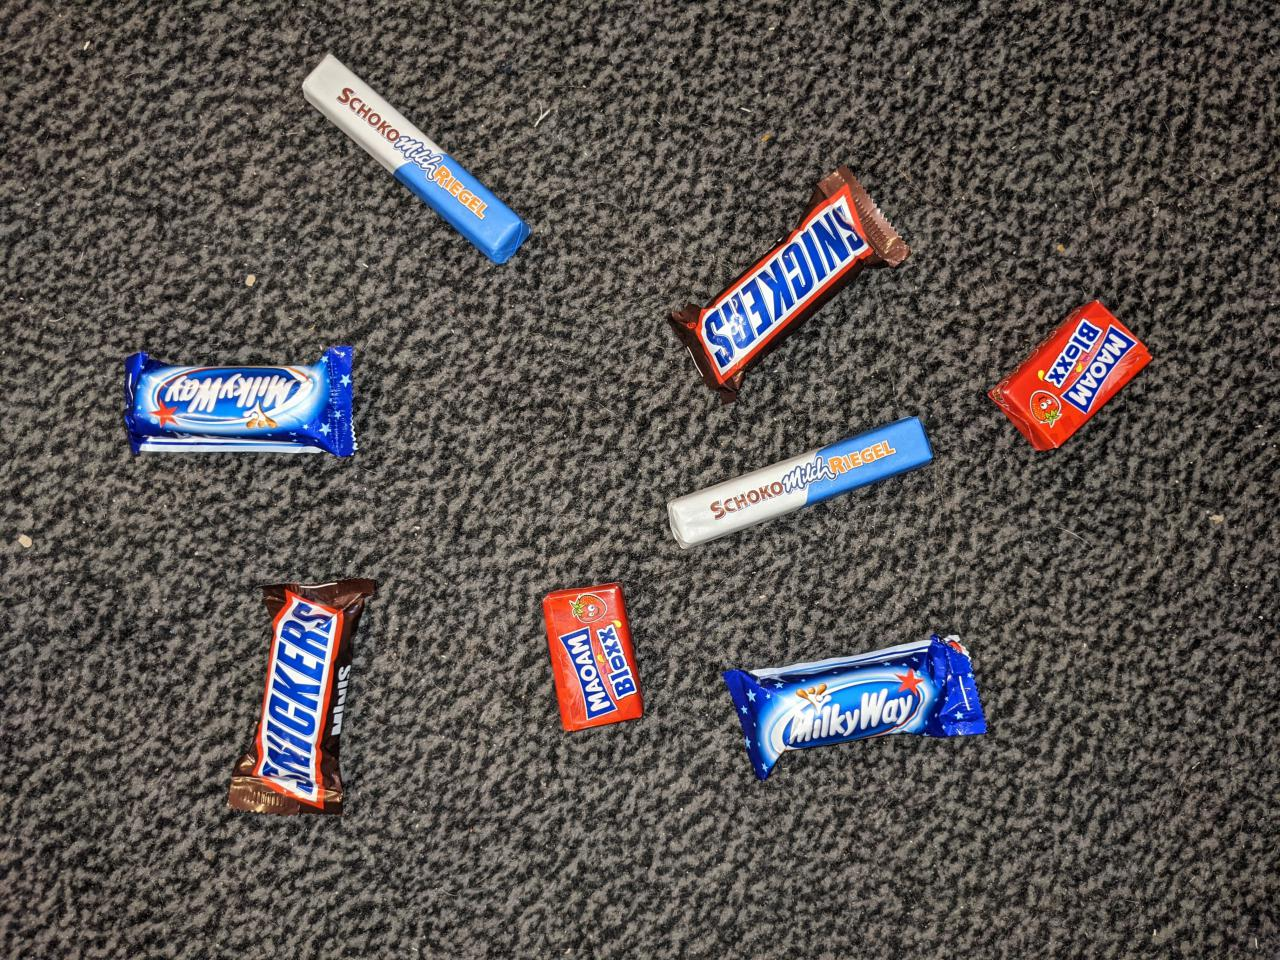MAOAM: (979, 296, 1158, 458), (533, 579, 650, 739)
MilkyWay: (718, 628, 994, 785), (120, 342, 365, 466)
Schokoriegel: (294, 49, 538, 268), (660, 412, 942, 555)
Snickers: (662, 159, 916, 401), (216, 570, 387, 821)
